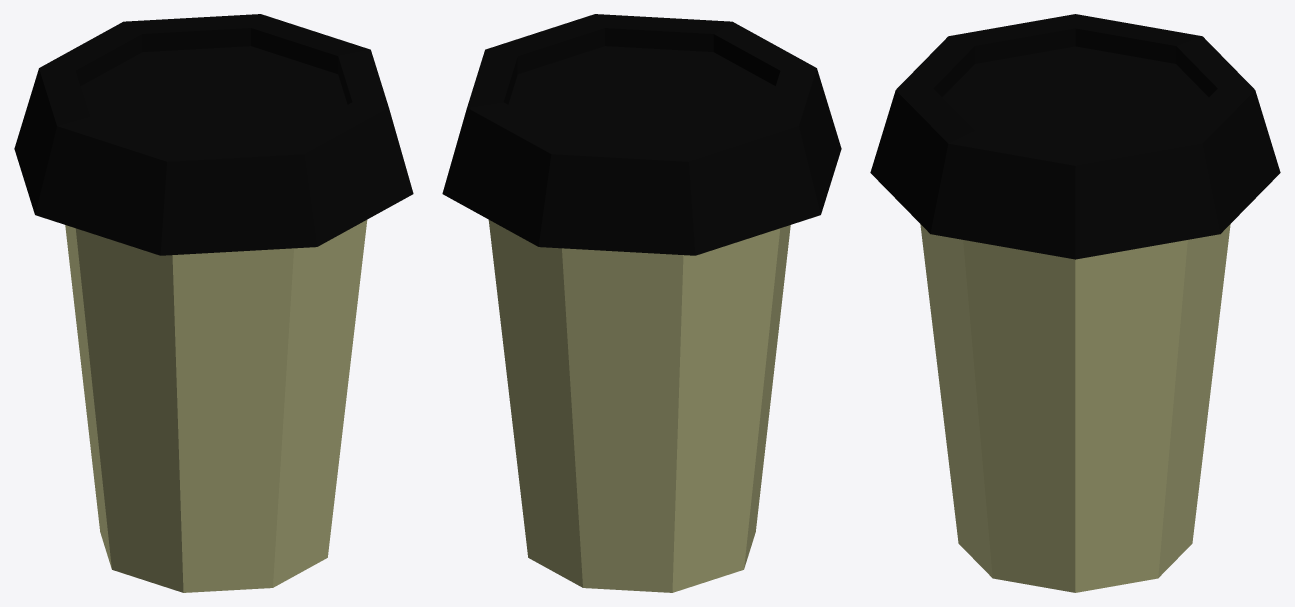
File: Coffee.fbx
3 renders of one model, left to right at view 1: azimuth 30°, elevation 25°; view 2: azimuth 150°, elevation 25°; view 3: azimuth 270°, elevation 25°, orthographic.
Visible parts, largest first — view 1: Cylinder; view 2: Cylinder; view 3: Cylinder.
Boxes of the visible parts, x1,y1,x2,y2 form: Cylinder: [14, 14, 413, 592]; Cylinder: [442, 14, 841, 592]; Cylinder: [870, 14, 1280, 592].
Bounding box in the file's own units: 351 × 429 × 351.
